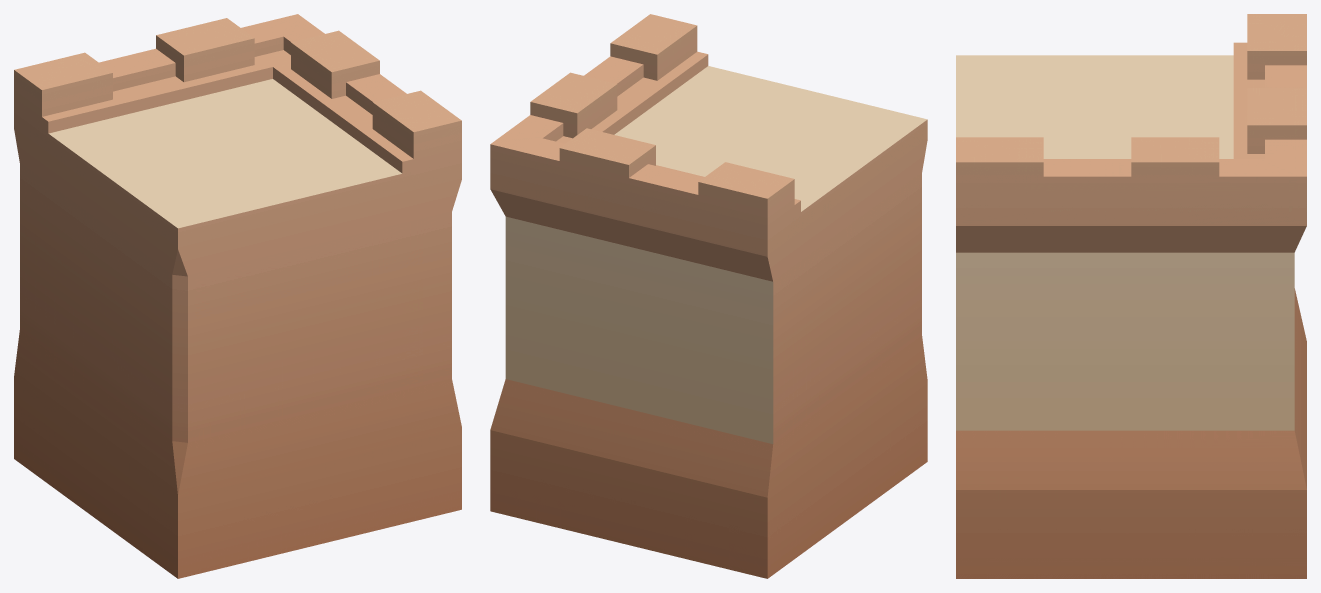
Rendered from wall-corner-half.glb.
3 views of the same model, side by side, from view 1: azimuth 30°, elevation 25°; view 2: azimuth 150°, elevation 25°; view 3: azimuth 270°, elevation 25° (orthographic). The views are drawn at different scales.
Parts seen in each view (by area): view 1: wall-corner-half; view 2: wall-corner-half; view 3: wall-corner-half.
Boxes of the visible parts, left/top/right/bottom form: wall-corner-half: left=14, top=14, right=461, bottom=578; wall-corner-half: left=490, top=14, right=927, bottom=578; wall-corner-half: left=956, top=14, right=1306, bottom=578.
Bounding box in the file's own units: 1 × 1.31 × 1.
Materials: 1 (1 with a texture image).
